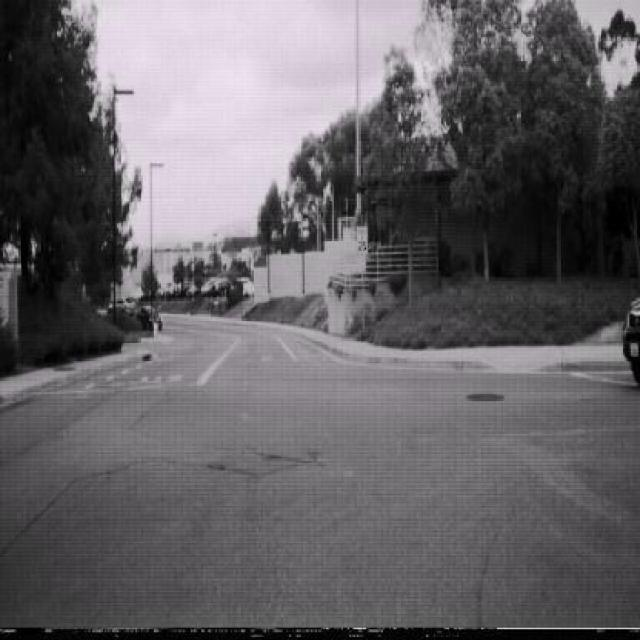speedLimit25: (355, 224, 368, 256)
